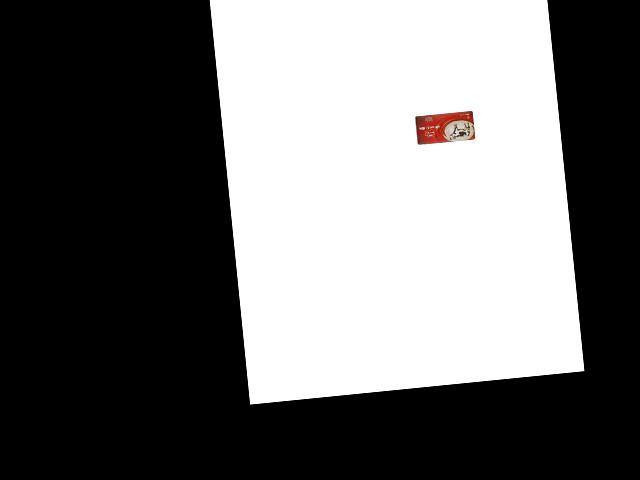chocolate: (413, 109, 475, 145)
